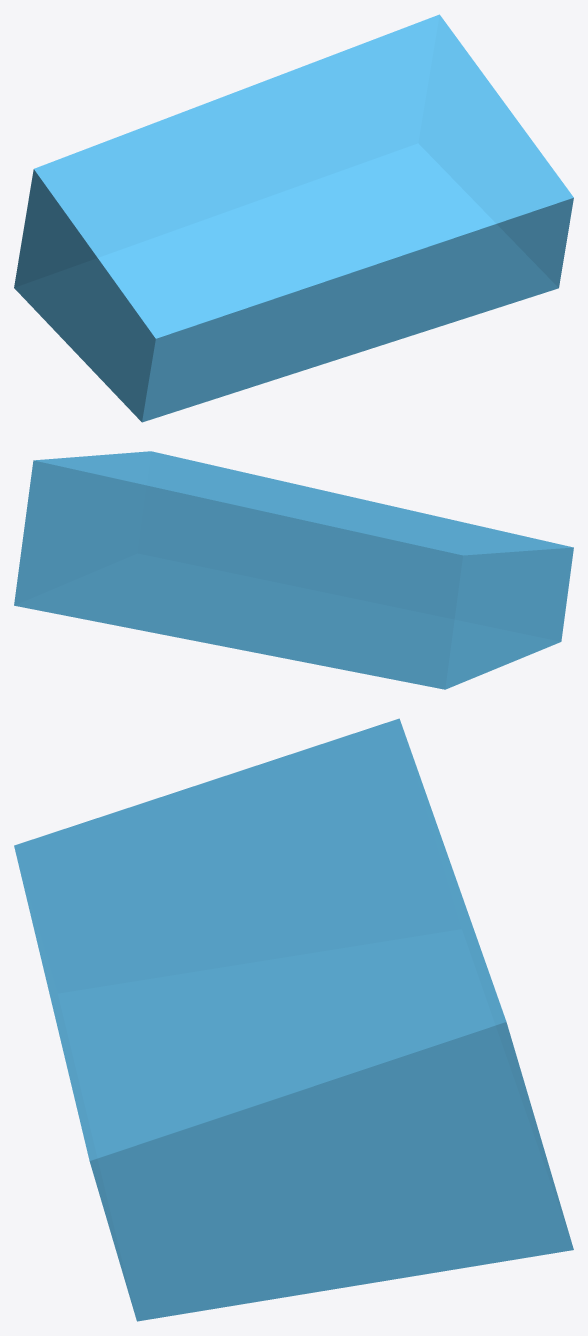
Rendered from Event_420094457_HErechit_91.fbx.
The picture shows the model from 3 angles, top to bottom: view 1: azimuth 30°, elevation 25°; view 2: azimuth 150°, elevation 25°; view 3: azimuth 270°, elevation 25°; orthographic projection. The views are drawn at different scales.
Visible parts, largest first — view 1: Model; view 2: Model; view 3: Model.
Part boxes in pixels (x1=…): Model: x1=14, y1=14, x2=573, y2=422; Model: x1=14, y1=451, x2=573, y2=689; Model: x1=14, y1=718, x2=573, y2=1321.
Size of the model in its own units: 0.9178 by 0.3904 by 0.6379.
